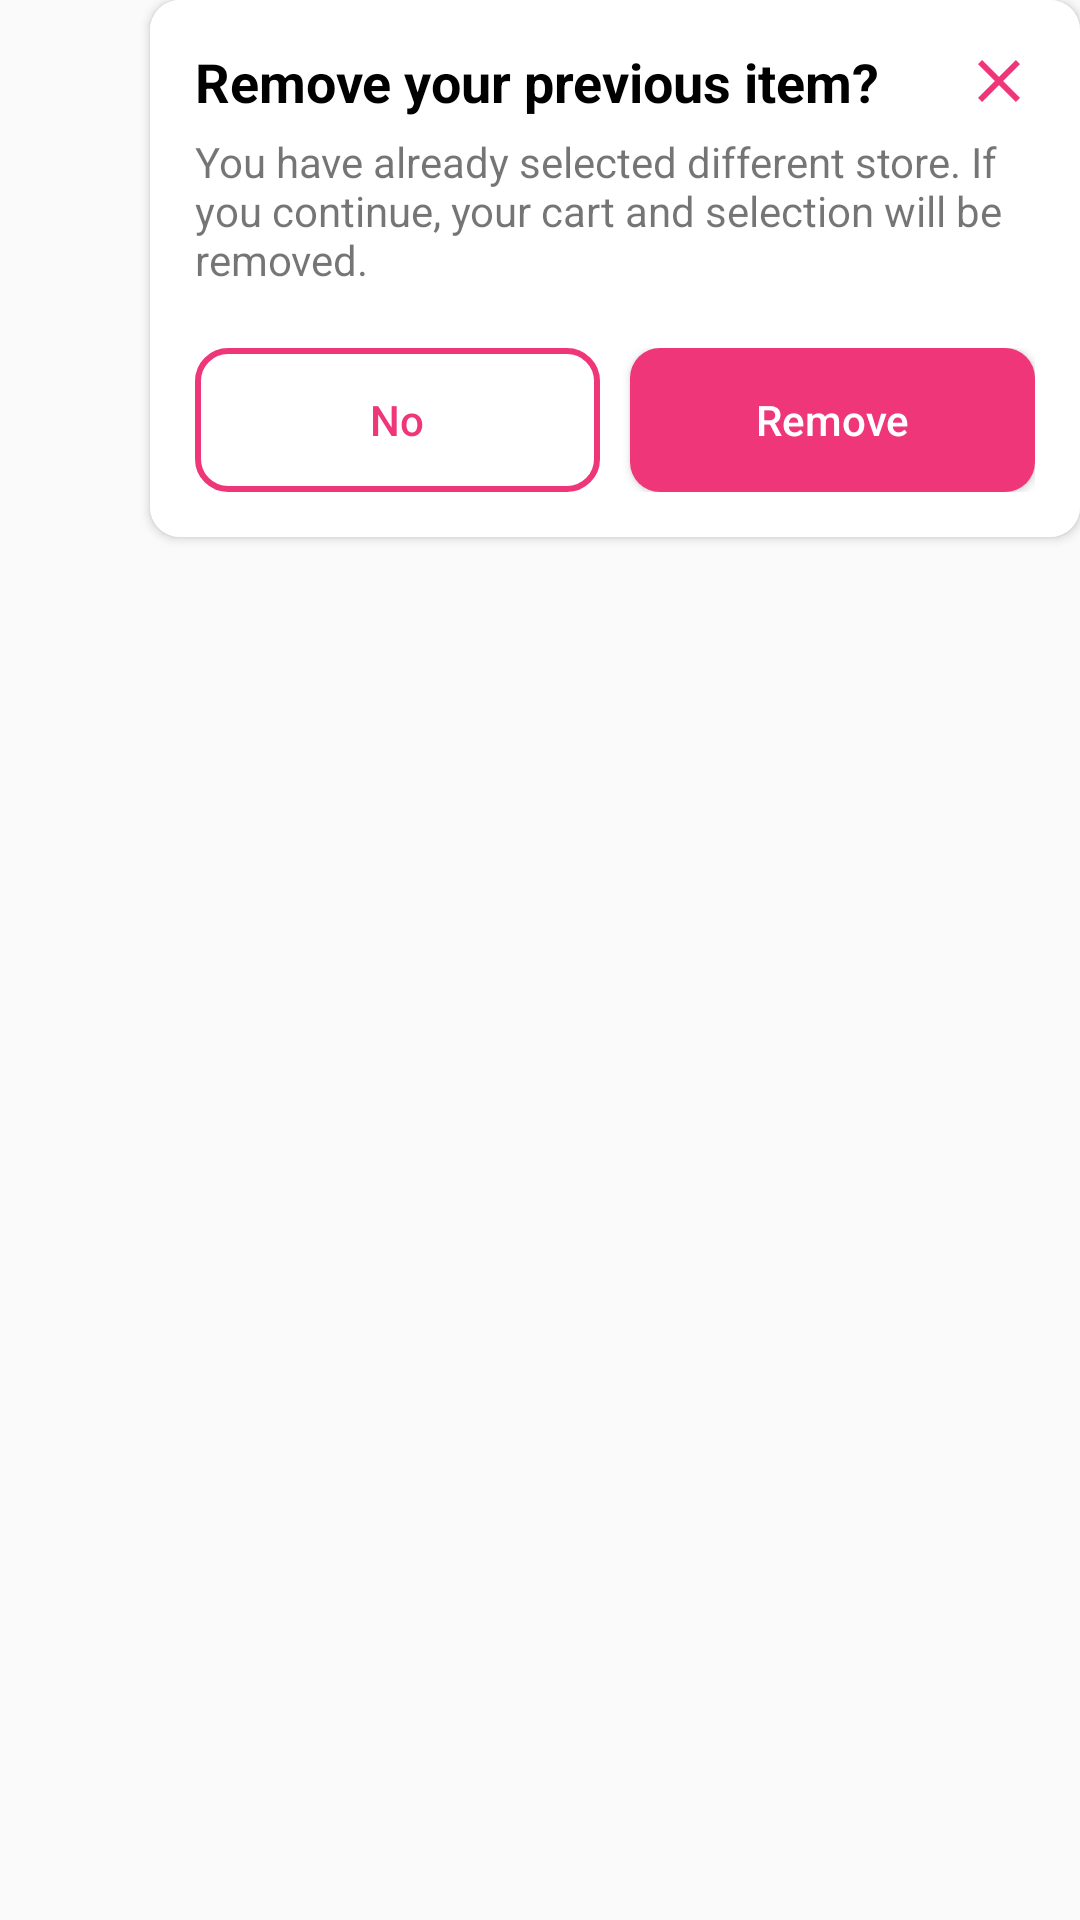

Screen size 1080*1920. Icon name, then its box in pixels as {"left": x1, "top": y1, "right": x2, "bottom": y2}:
close: {"left": 978, "top": 60, "right": 1020, "bottom": 102}
